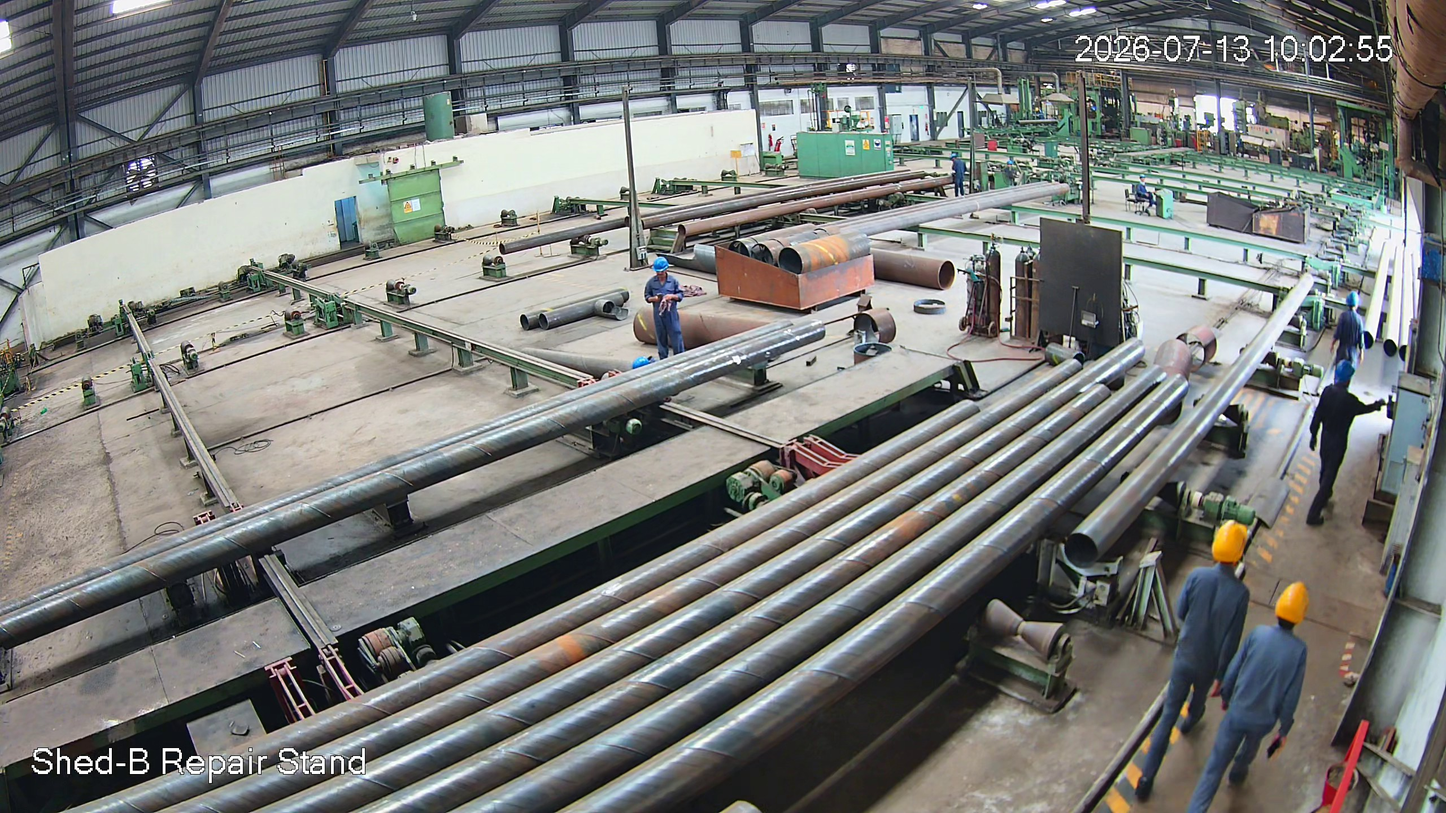Helmet: (1265, 578, 1318, 650), (1202, 513, 1261, 576), (1330, 357, 1357, 393), (1342, 287, 1367, 317), (651, 255, 678, 281)
Person: (1136, 523, 1265, 813), (1199, 582, 1333, 813), (1301, 362, 1365, 536), (642, 257, 690, 360), (1330, 289, 1365, 395)
